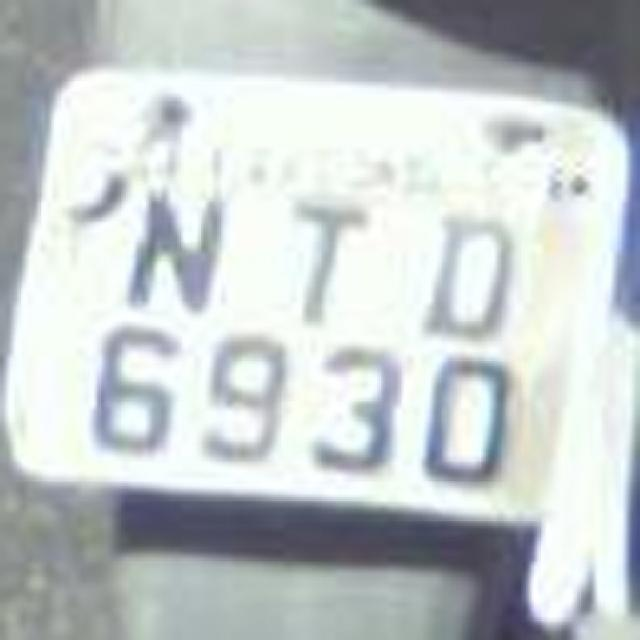0: (409, 316, 556, 484)
3: (284, 320, 431, 488)
6: (72, 320, 200, 485)
9: (184, 320, 308, 480)
N: (104, 184, 231, 336)
O: (400, 172, 528, 348)
T: (252, 184, 388, 336)
